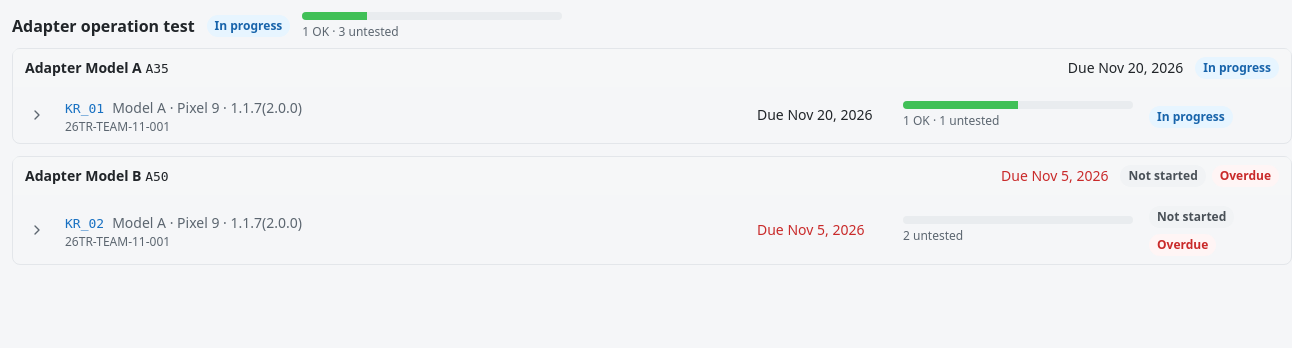
Test: TopicTree › lists only the person's own cases of a run
The width and height of the screenshot is (1292, 348).
What coordinates should you click on to do the following:
click the button named "Show sections of KR_01"
I would click on:
 (37, 115)
Its box is [25,103,49,127].
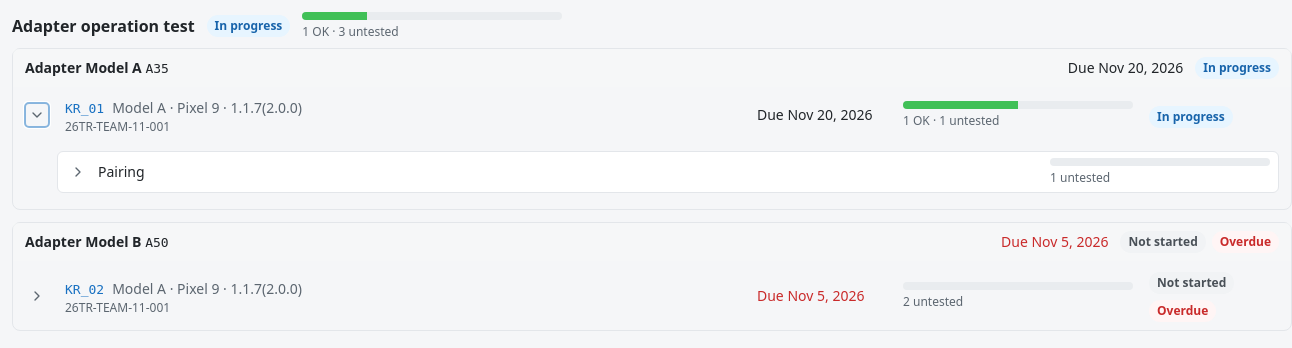
Expected: the text "Pairing" is shown, [98,162,145,181]
